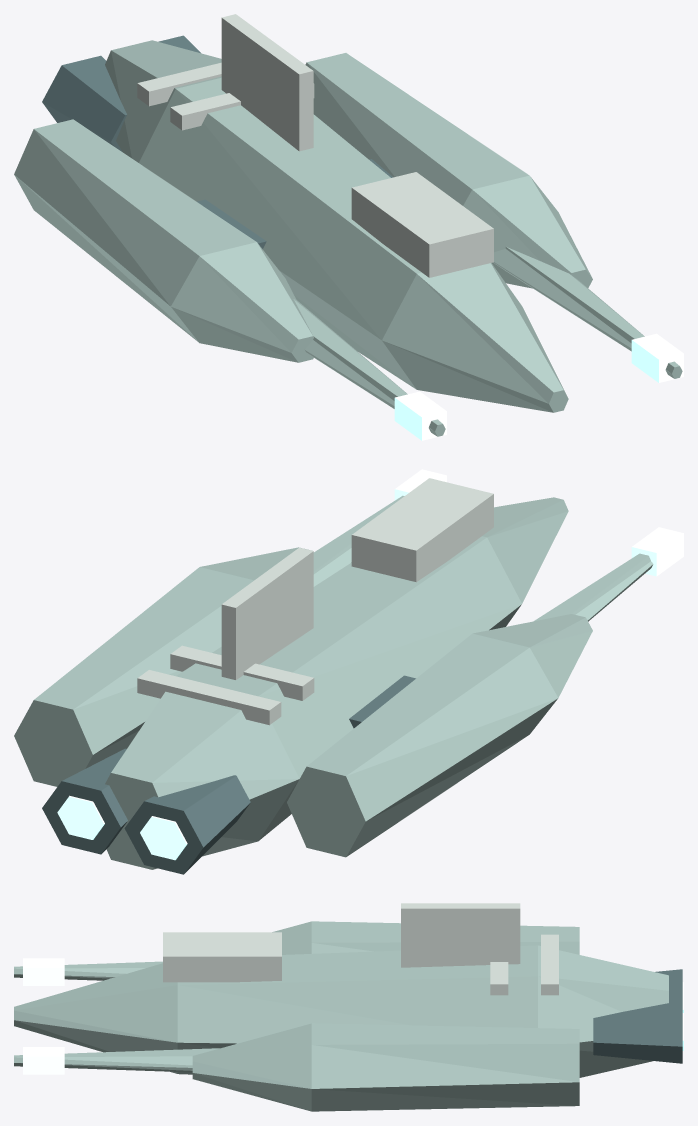
3 renders of one model, top to bottom at view 1: azimuth 30°, elevation 25°; view 2: azimuth 150°, elevation 25°; view 3: azimuth 270°, elevation 25°, orthographic. The views are drawn at different scales.
Bounding box in the file's own units: 2.4 × 1.28 × 4.68.
